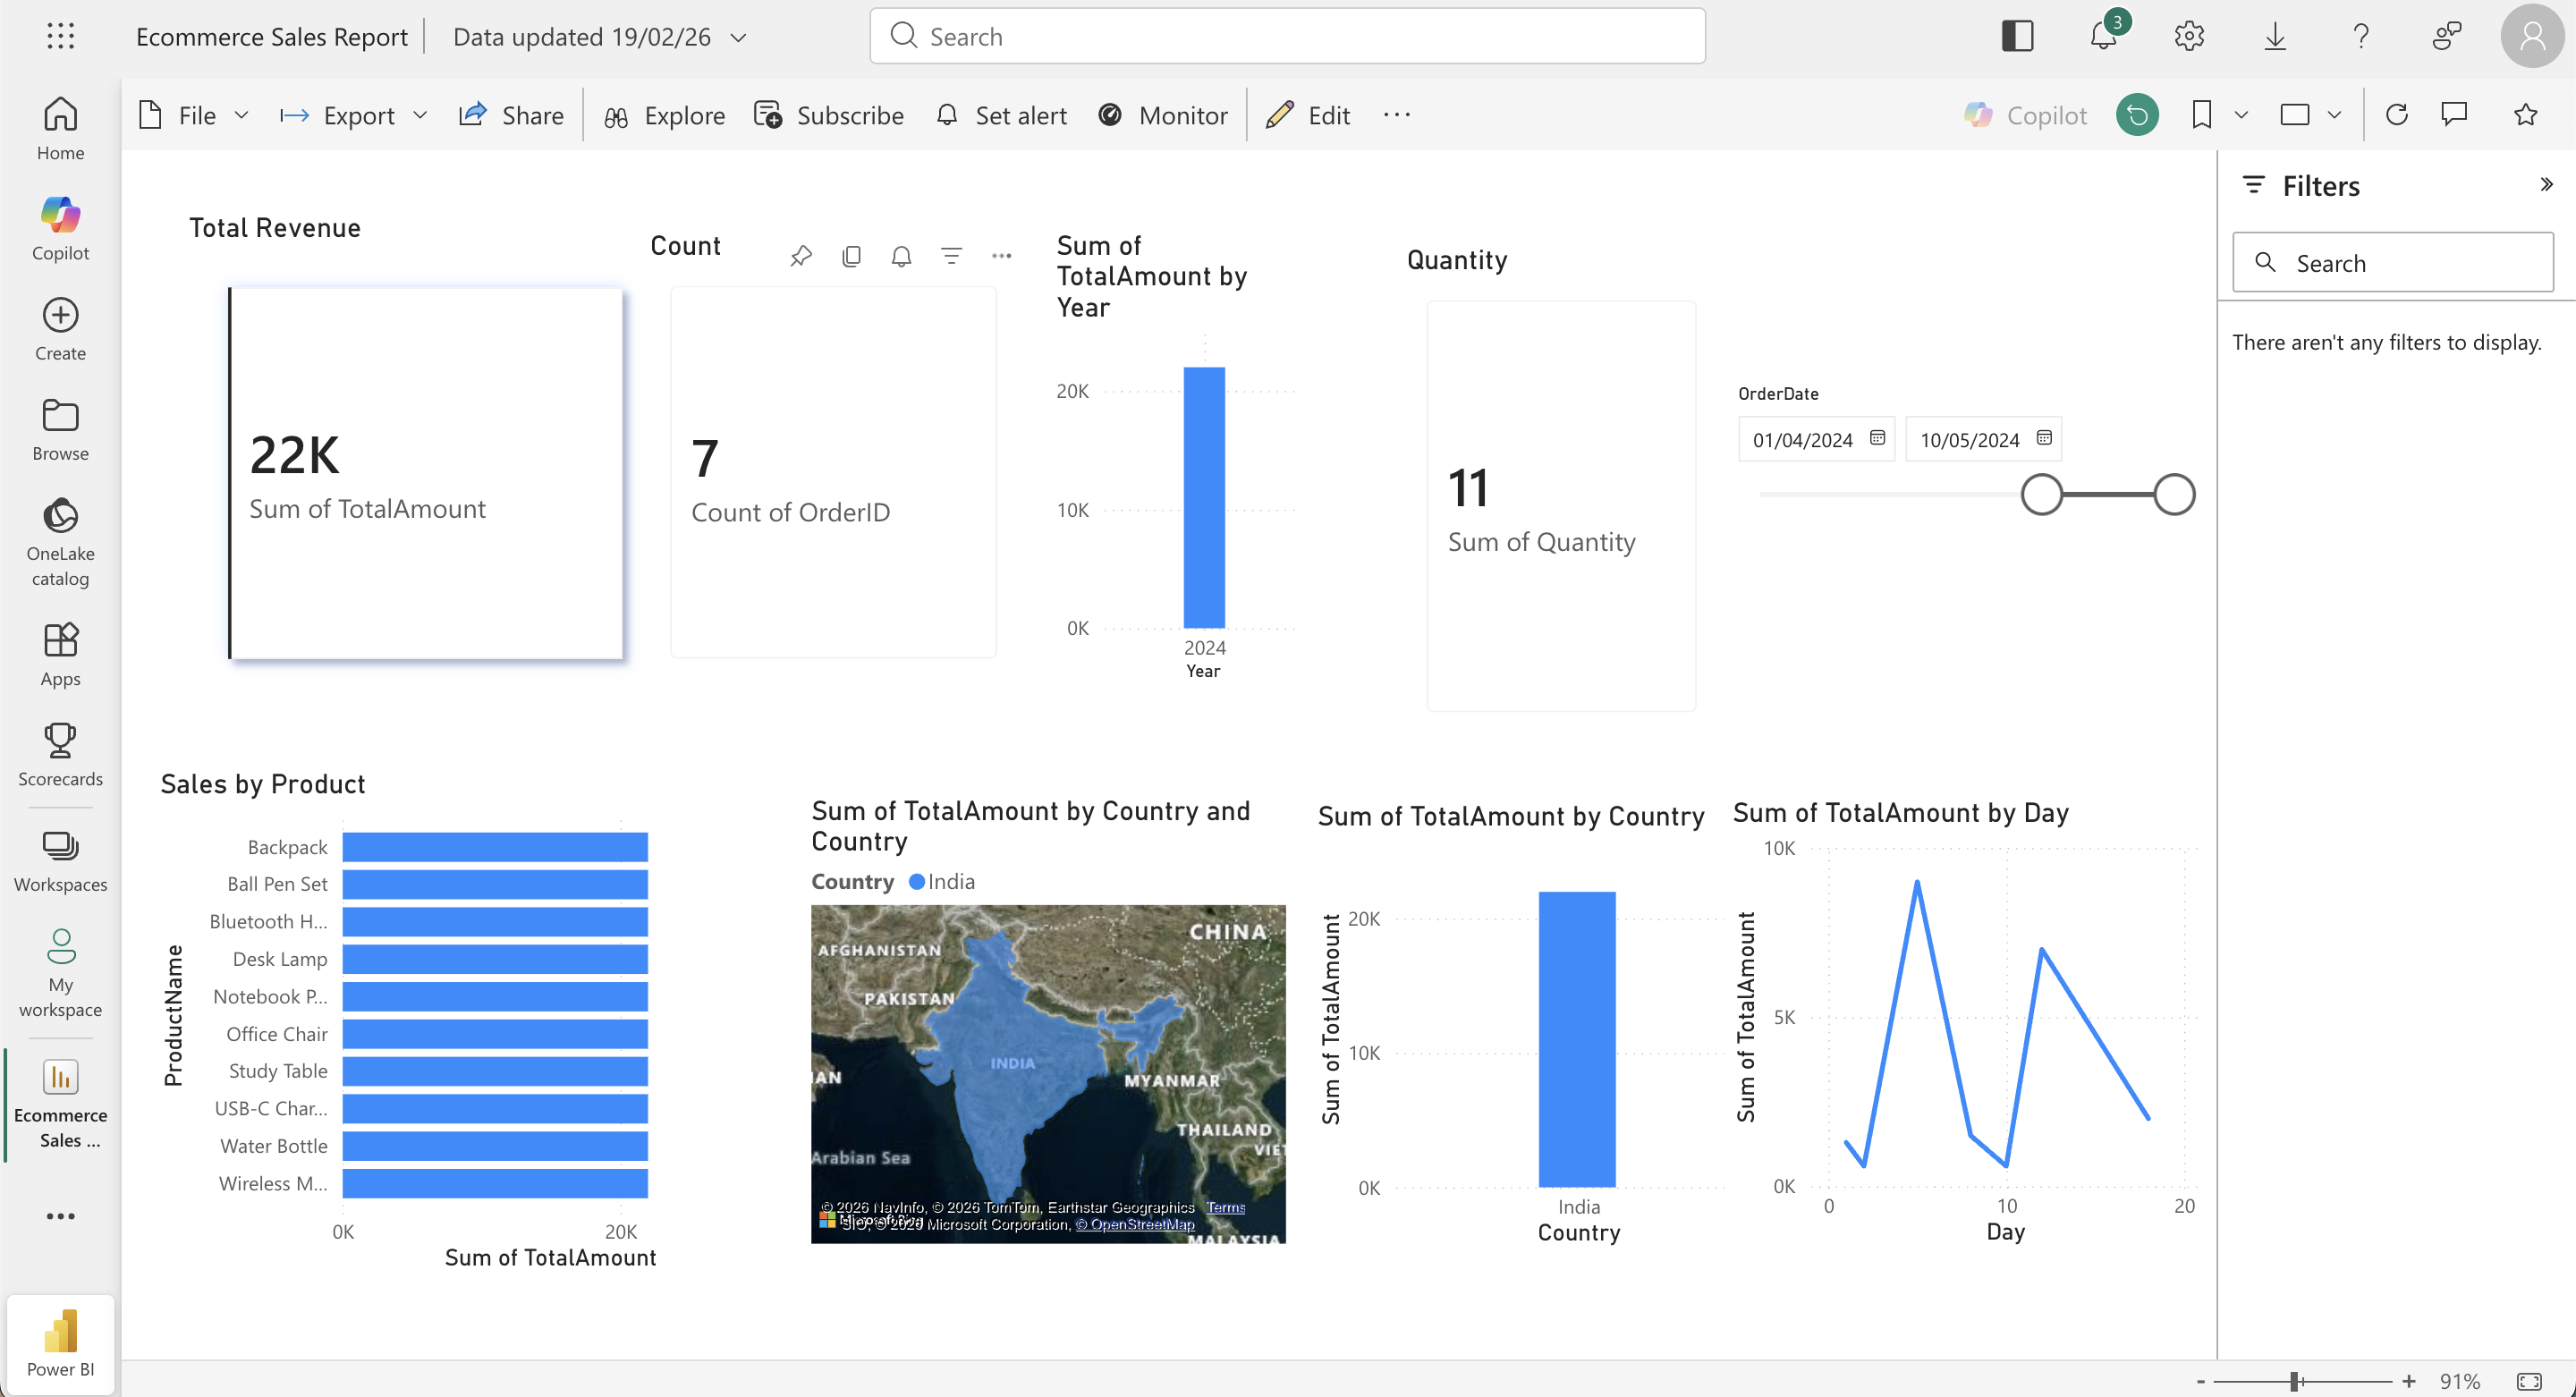

The page's visual inventory and layout, read from the dashboard file:
{"tool":"powerbi","page":{"name":"Page 1","canvas":[1280,720],"ordinal":0},"visuals":[{"type":"columnChart","fields":{"Category":["customers.Country"],"Y":["Sum(orders.TotalAmount)"]},"box":[726.2,398.7,281.6,275.3],"z":0},{"type":"filledMap","fields":{"Category":["customers.Country"],"Series":["customers.Country"]},"box":[416.6,395.7,300,277.7],"z":2000},{"type":"clusteredBarChart","title":"Sales by Product","fields":{"Category":["products.ProductName"],"Y":["Sum(orders.TotalAmount)"]},"box":[19,379.7,386.1,310.1],"z":3000},{"type":"cardVisual","title":"Total Revenue","fields":{"Data":["Sum(orders.TotalAmount)"]},"box":[36.4,39.6,299,300.6],"z":4000},{"type":"cardVisual","title":"Count","fields":{"Data":["CountNonNull(orders.OrderID)"]},"box":[318,50.6,234.2,278.5],"z":4001},{"type":"cardVisual","title":"Quantity","fields":{"Data":["Sum(orders.Quantity)"]},"box":[780,58.5,199.4,302.2],"z":4002},{"type":"columnChart","fields":{"Category":["orders.OrderDate.Variation.Date Hierarchy.Year","orders.OrderDate.Variation.Date Hierarchy.Quarter","orders.OrderDate.Variation.Date Hierarchy.Month","orders.OrderDate.Variation.Date Hierarchy.Day"],"Y":["Sum(orders.TotalAmount)"]},"box":[566.4,50.6,159.8,278.5],"z":4003},{"type":"slicer","fields":{"Values":["orders.OrderDate"]},"box":[974.6,139.2,300.6,142.4],"z":4004},{"type":"lineChart","fields":{"Category":["orders.OrderDate.Variation.Date Hierarchy.Year","orders.OrderDate.Variation.Date Hierarchy.Quarter","orders.OrderDate.Variation.Date Hierarchy.Month","orders.OrderDate.Variation.Date Hierarchy.Day"],"Y":["Sum(orders.TotalAmount)"]},"box":[979.4,397.1,295.9,276.9],"z":4005}]}

Visuals, with their boxes on the page's 1280x720 design canvas (x1, y1, x2, y2). These are canvas units, not pixel positions in the 2576x1397 screenshot, which may show the page scaled, cropped or inside an application window:
columnChart - customers.Country x Sum(orders.TotalAmount): bbox(726, 399, 1008, 674)
filledMap - customers.Country x customers.Country: bbox(417, 396, 717, 673)
"Sales by Product" clusteredBarChart: bbox(19, 380, 405, 690)
"Total Revenue" cardVisual: bbox(36, 40, 335, 340)
"Count" cardVisual: bbox(318, 51, 552, 329)
"Quantity" cardVisual: bbox(780, 58, 979, 361)
columnChart - orders.OrderDate.Variation.Date Hierarchy.Year x orders.OrderDate.Variation.Date Hierarchy.Quarter: bbox(566, 51, 726, 329)
slicer - orders.OrderDate: bbox(975, 139, 1275, 282)
lineChart - orders.OrderDate.Variation.Date Hierarchy.Year x orders.OrderDate.Variation.Date Hierarchy.Quarter: bbox(979, 397, 1275, 674)
